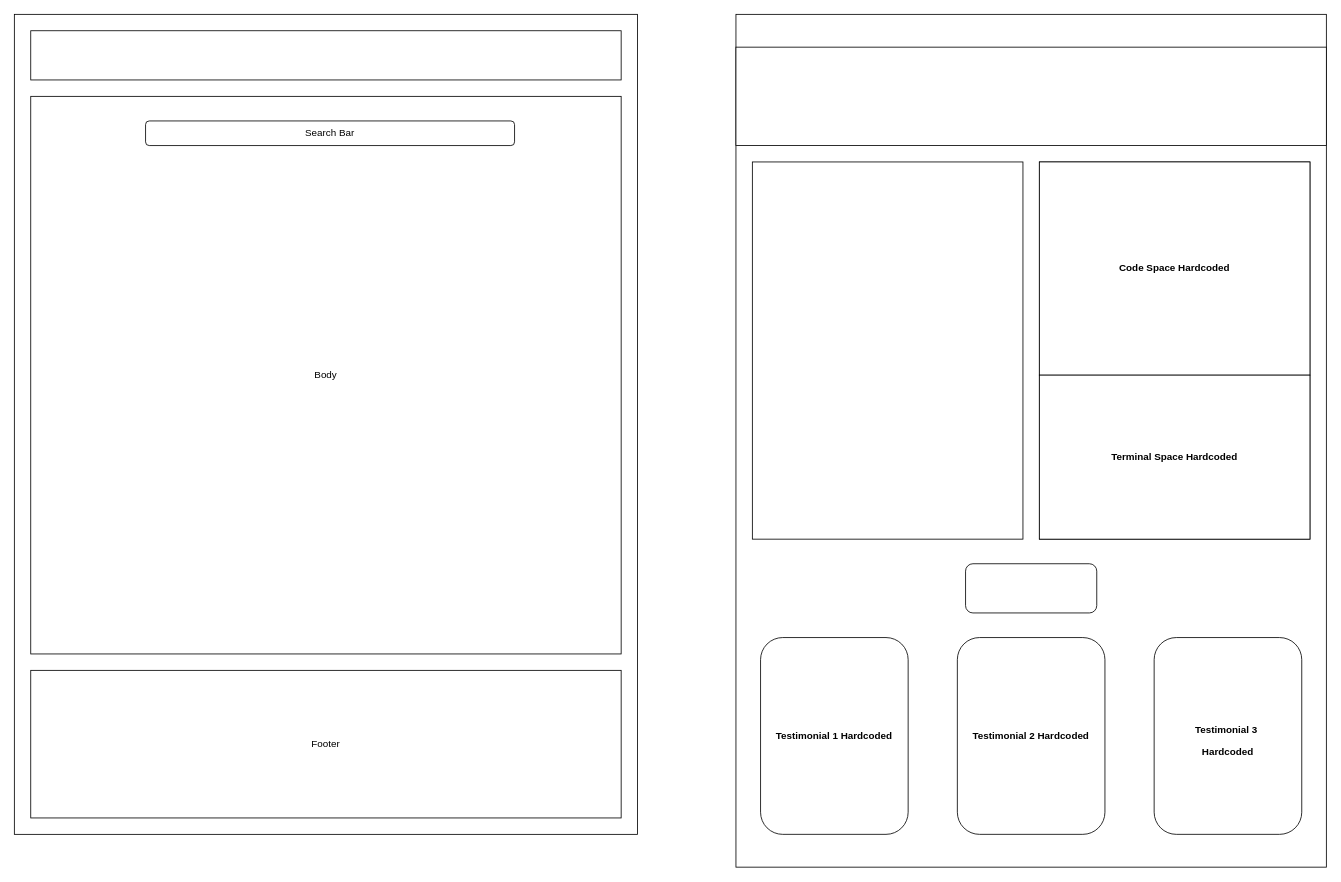
Image size: 1341x882. Some labels were removed from this diagram. Here are the shapes that lost their labels. From the top down, the centre of each, then its label:
At (325,55): "Header".
At (1030,96): "Tittle".
At (887,350): "Command Description Box Hardcoded".
At (1031,588): "Get Started".
